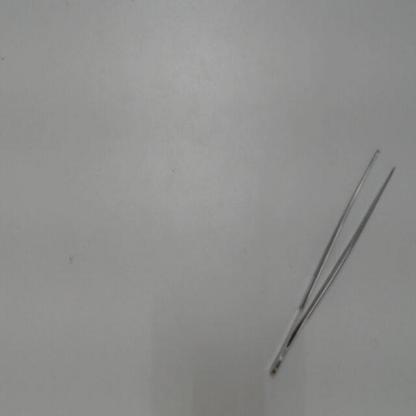Gillies Toothed Dissector: (262, 141, 409, 387)
